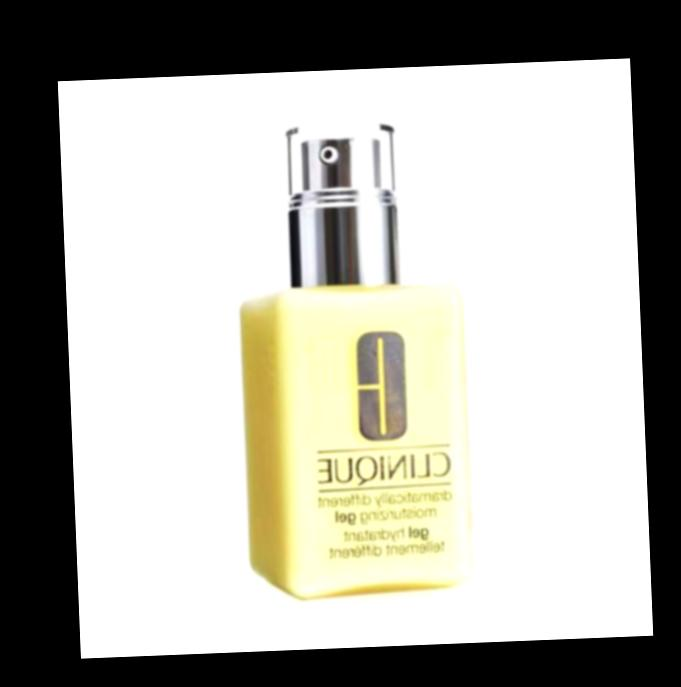cosmetic: (231, 114, 475, 597)
